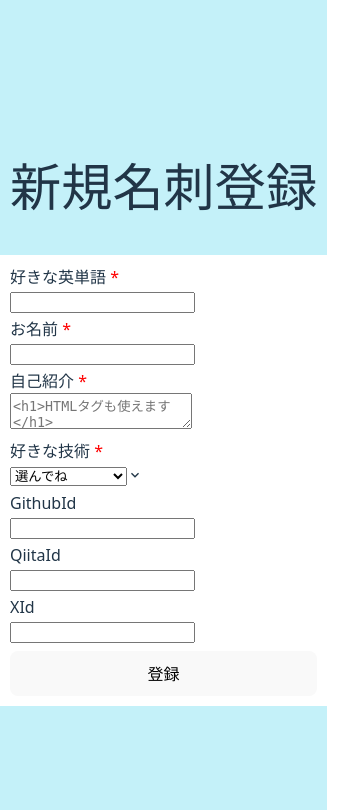
Test: RegistCard › 自己紹介が未入力の状態で登録ボタンを押すとエラーメッセージが表示されること
Note: 自己紹介フィールド以外を入力
Type "app" into the field with test id "id". click: (102, 302)
box: [10,292,195,313]
Type "テストユーザー" into the field with test id "name". click: (102, 354)
box: [10,344,195,365]
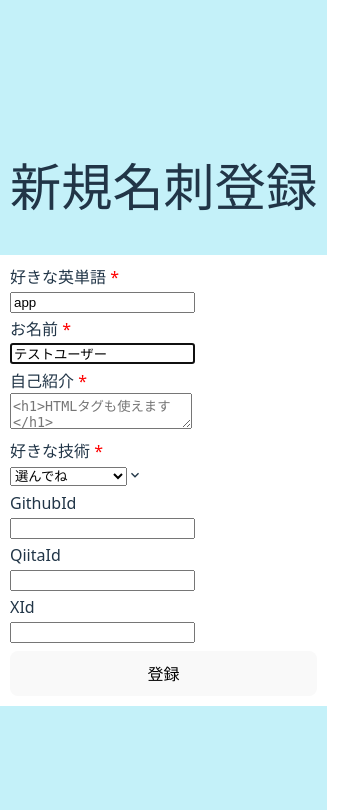
Select "React" in the dropdown with test id "favorite_technique_id". click: (68, 476)
box: [10,467,127,486]
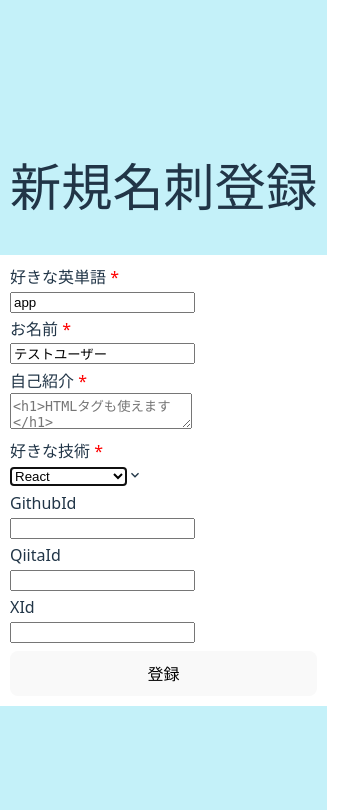
Type "testuser" into the field with test id "github_id". click: (102, 528)
box: [10,518,195,539]
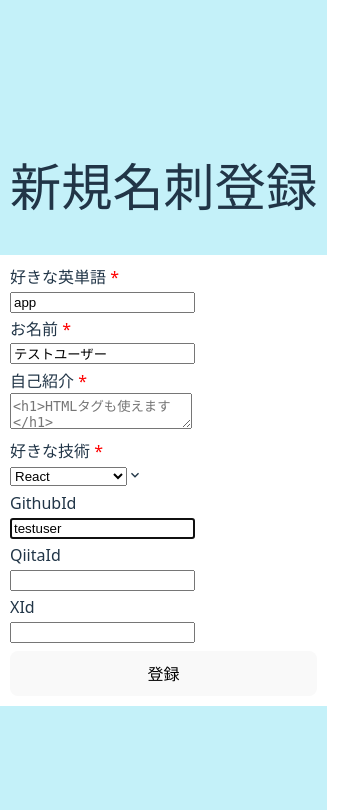
Type "testuser" into the field with test id "qiita_id". click: (102, 580)
box: [10,570,195,591]
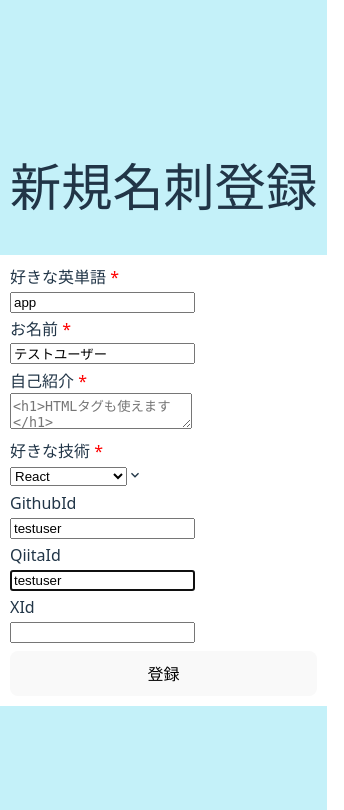
Type "testuser" into the field with test id "x_id". click: (102, 632)
box: [10,622,195,643]
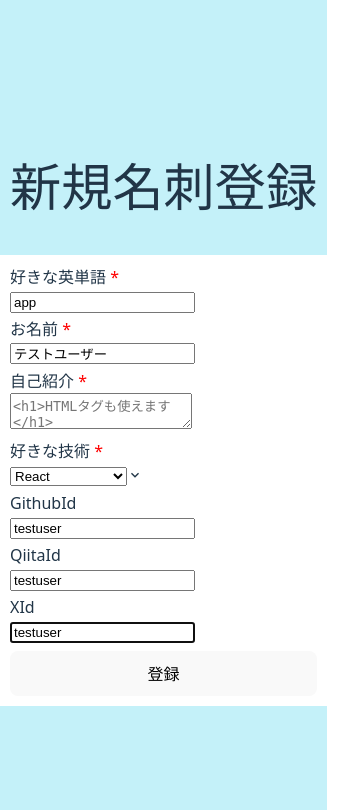
Note: 登録ボタンをクリック
Click the button with test id "submit-button". click: click(164, 674)
box: [10,651,317,696]
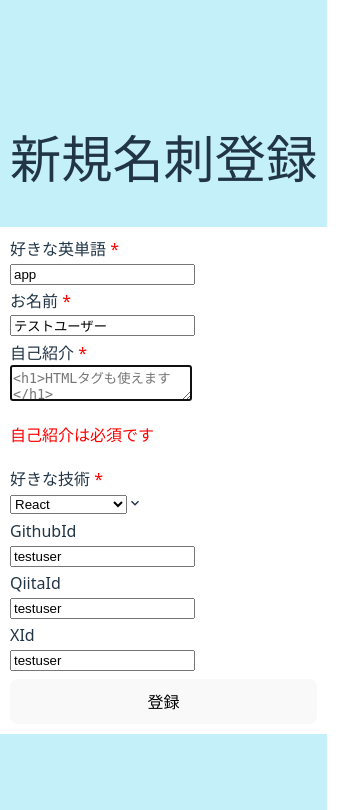
Expected: the text "自己紹介は必須です" is shown, [10,424,154,446]
